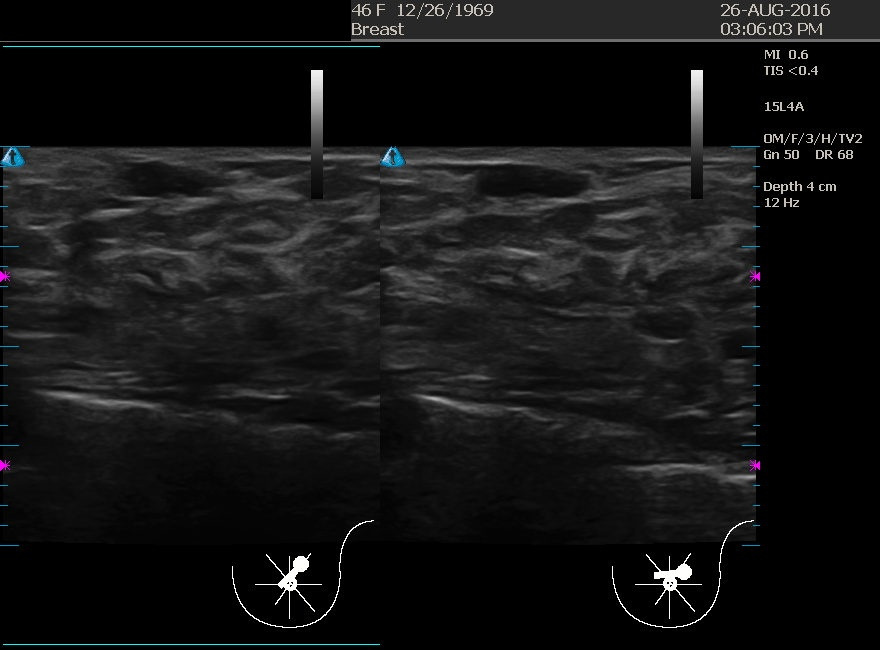BIRADS_3: (51, 150, 251, 350), (412, 152, 612, 352)
